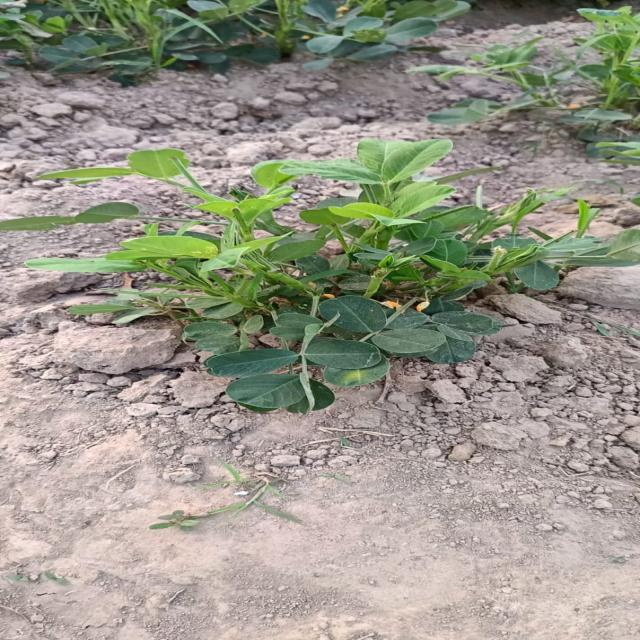plant: (24, 139, 639, 412), (1, 202, 170, 230)
